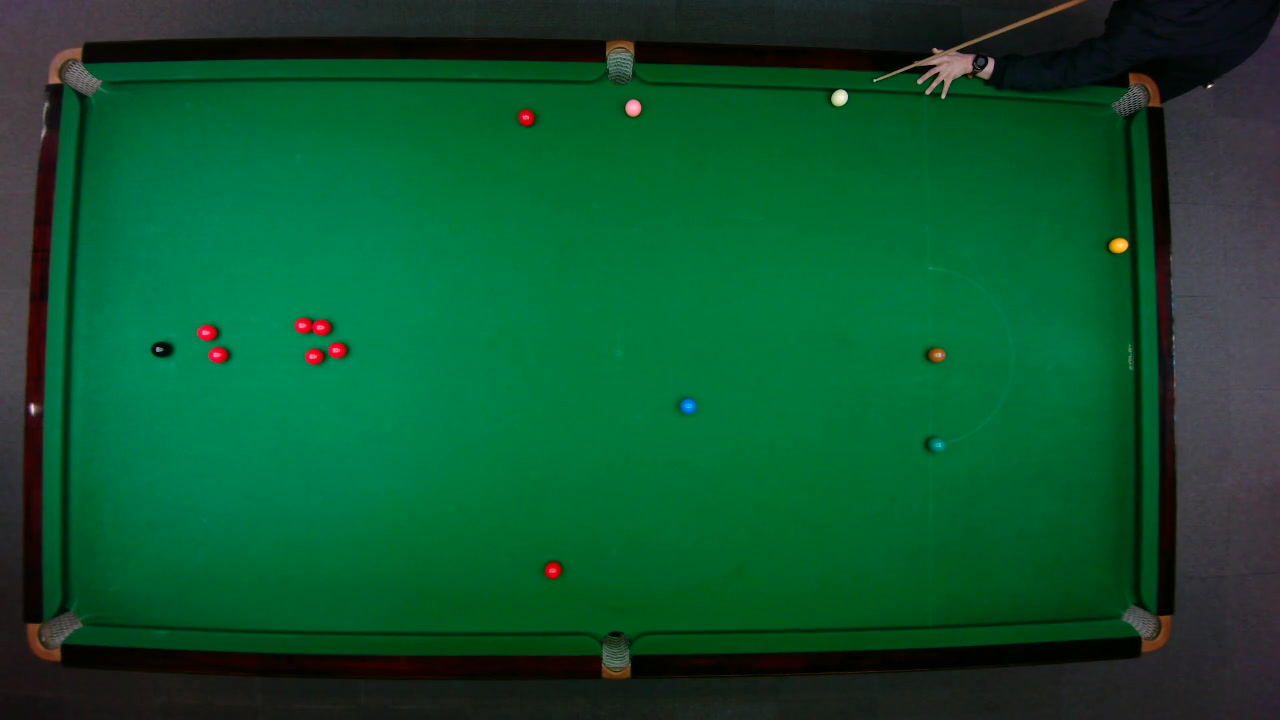bag: (24, 609, 83, 661), (46, 46, 102, 96), (1119, 603, 1172, 652), (1109, 72, 1160, 118), (601, 629, 629, 680), (605, 38, 633, 85)
black: (149, 339, 171, 357)
blue: (678, 396, 697, 414)
brown: (926, 346, 946, 362)
cue: (871, 0, 1082, 82)
green: (926, 435, 946, 452)
pink: (623, 97, 642, 117)
red: (195, 322, 218, 341), (542, 559, 562, 580), (292, 315, 313, 334), (207, 345, 229, 363), (516, 107, 535, 127), (303, 347, 324, 365), (311, 317, 332, 335), (327, 341, 347, 358)
white: (829, 87, 848, 106)
yellow: (1107, 236, 1129, 253)
zone: (926, 265, 1013, 445)
